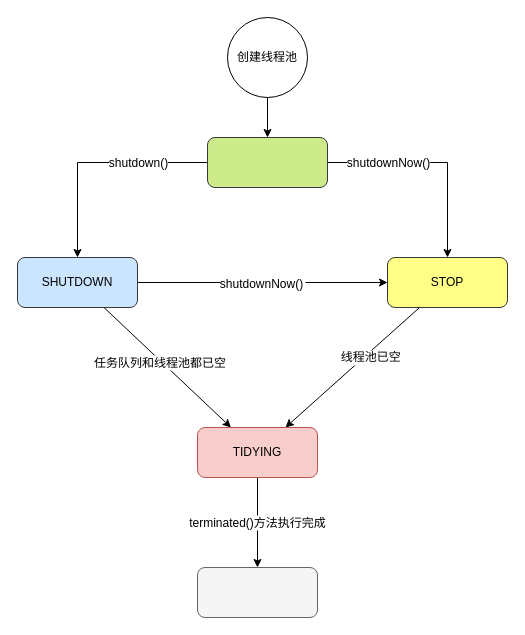
Image size: 525x635. Some labels were removed from this diagram. The centre of each missing label's shape, as x and y in pixels:
RUNNING: point (267, 162)
TERMINATED: point (257, 592)
